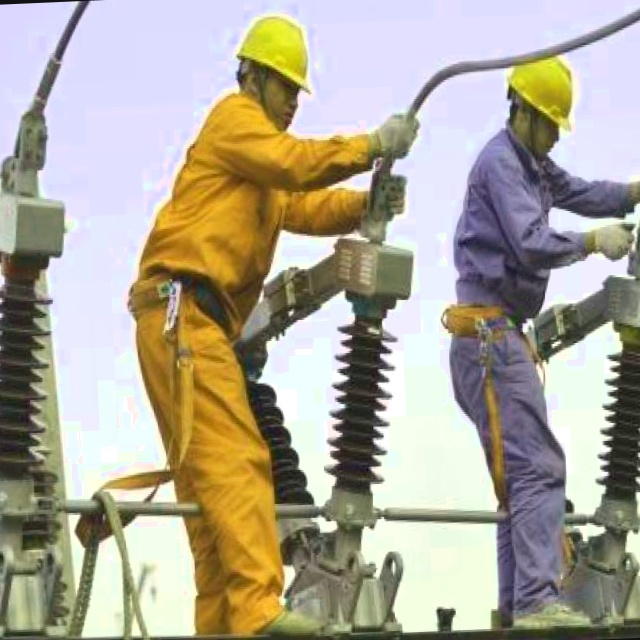Con_Casco: (233, 14, 316, 135)
